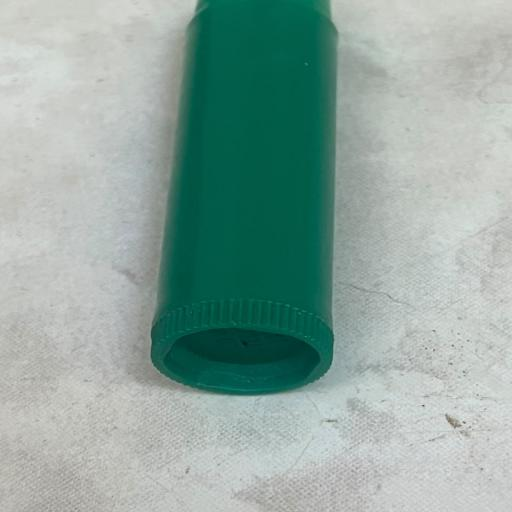HDPE: (116, 11, 413, 416)
